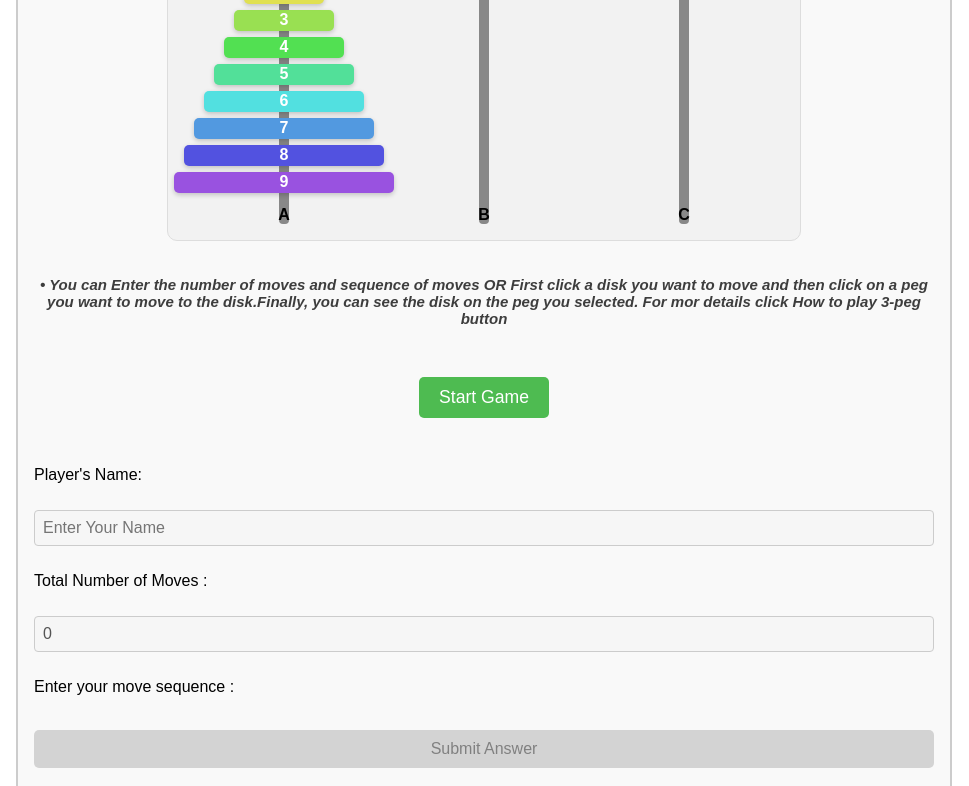
TowerOfHanoi resetGame functionality › resets the game state when reset button is clicked
This screenshot has width=969, height=786.
(page scrolled)
// Start the game first
Click the button "Start Game" at (484, 398), box [419, 377, 549, 418]
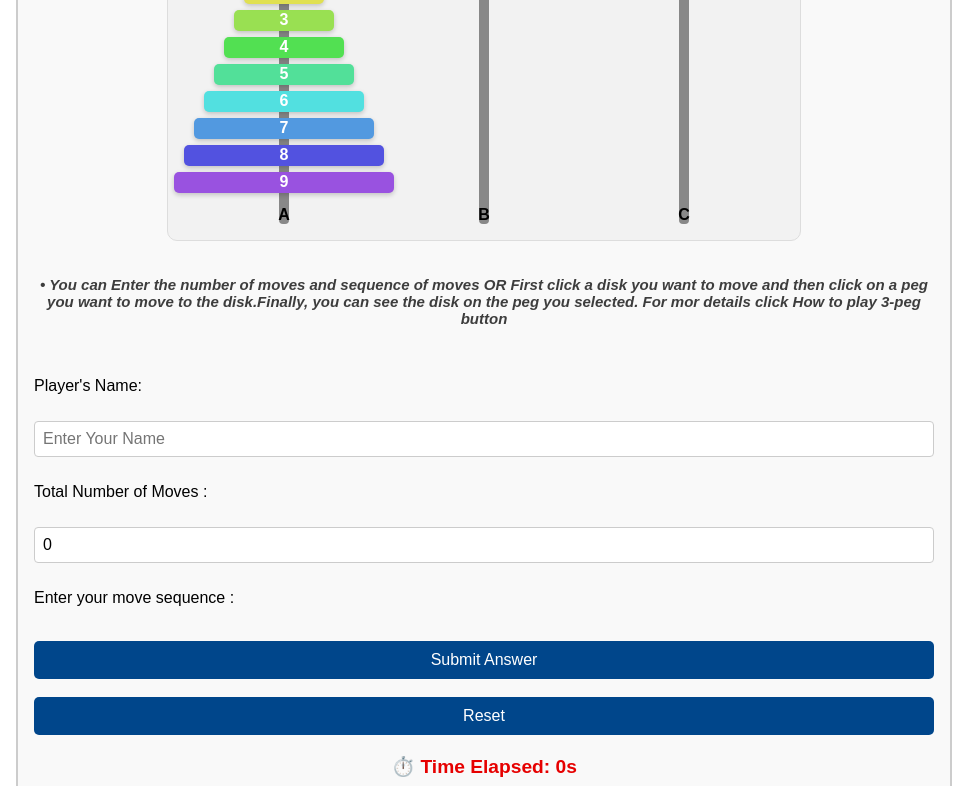
// Fill Player Name
Type "TestPlayer" into the field with placeholder "Enter Your Name" at (484, 439), box [34, 421, 934, 457]
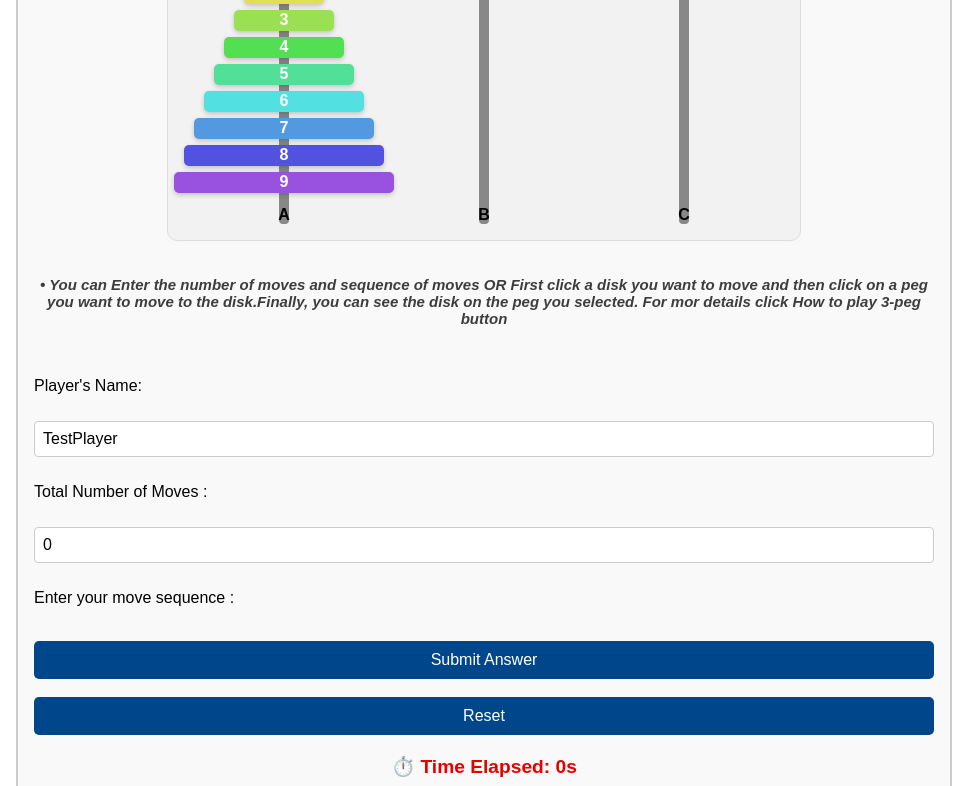
// Fill Move Count
Replace the text in the number field with placeholder "Enter Your Move Count (e.g. 7)" with "3" at (484, 545), box [34, 527, 934, 563]
(page scrolled)
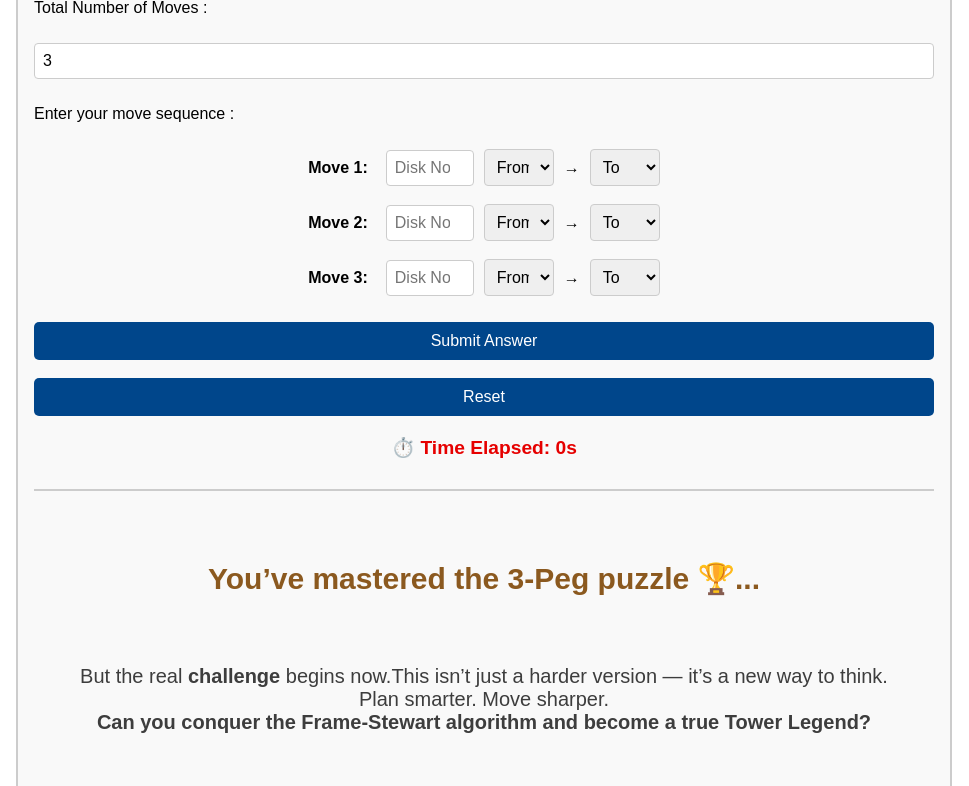
// Now click Reset button
Click the button "Reset" at (484, 397), box [34, 378, 934, 416]
(page scrolled)
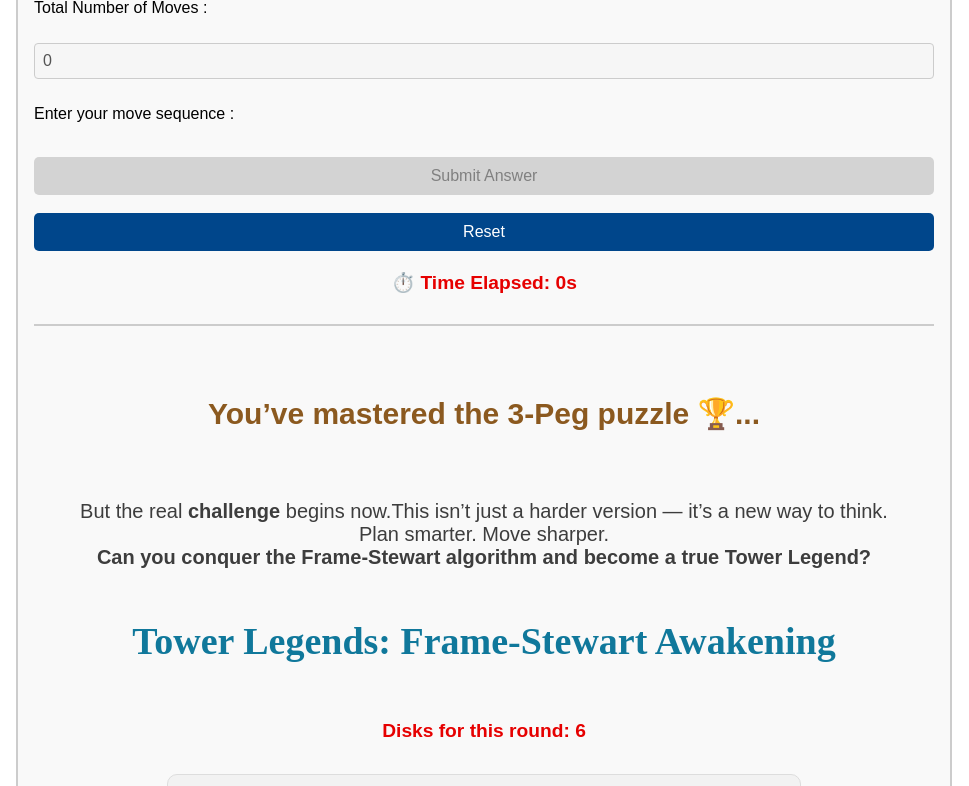
Result: the number field with placeholder "Enter Your Move Count (e.g. 7)" is disabled at [34, 43, 934, 79]
